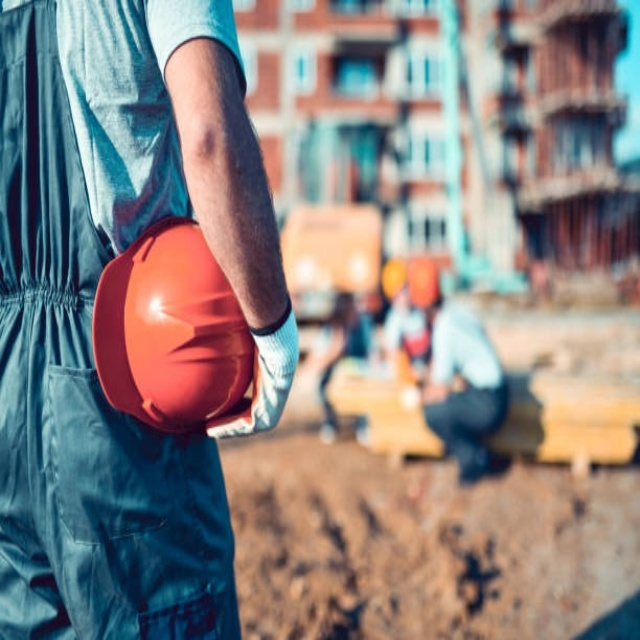Guantes: (205, 297, 300, 441)
